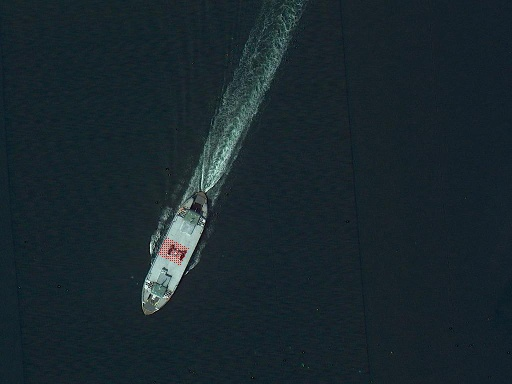ship: (131, 185, 219, 322)
